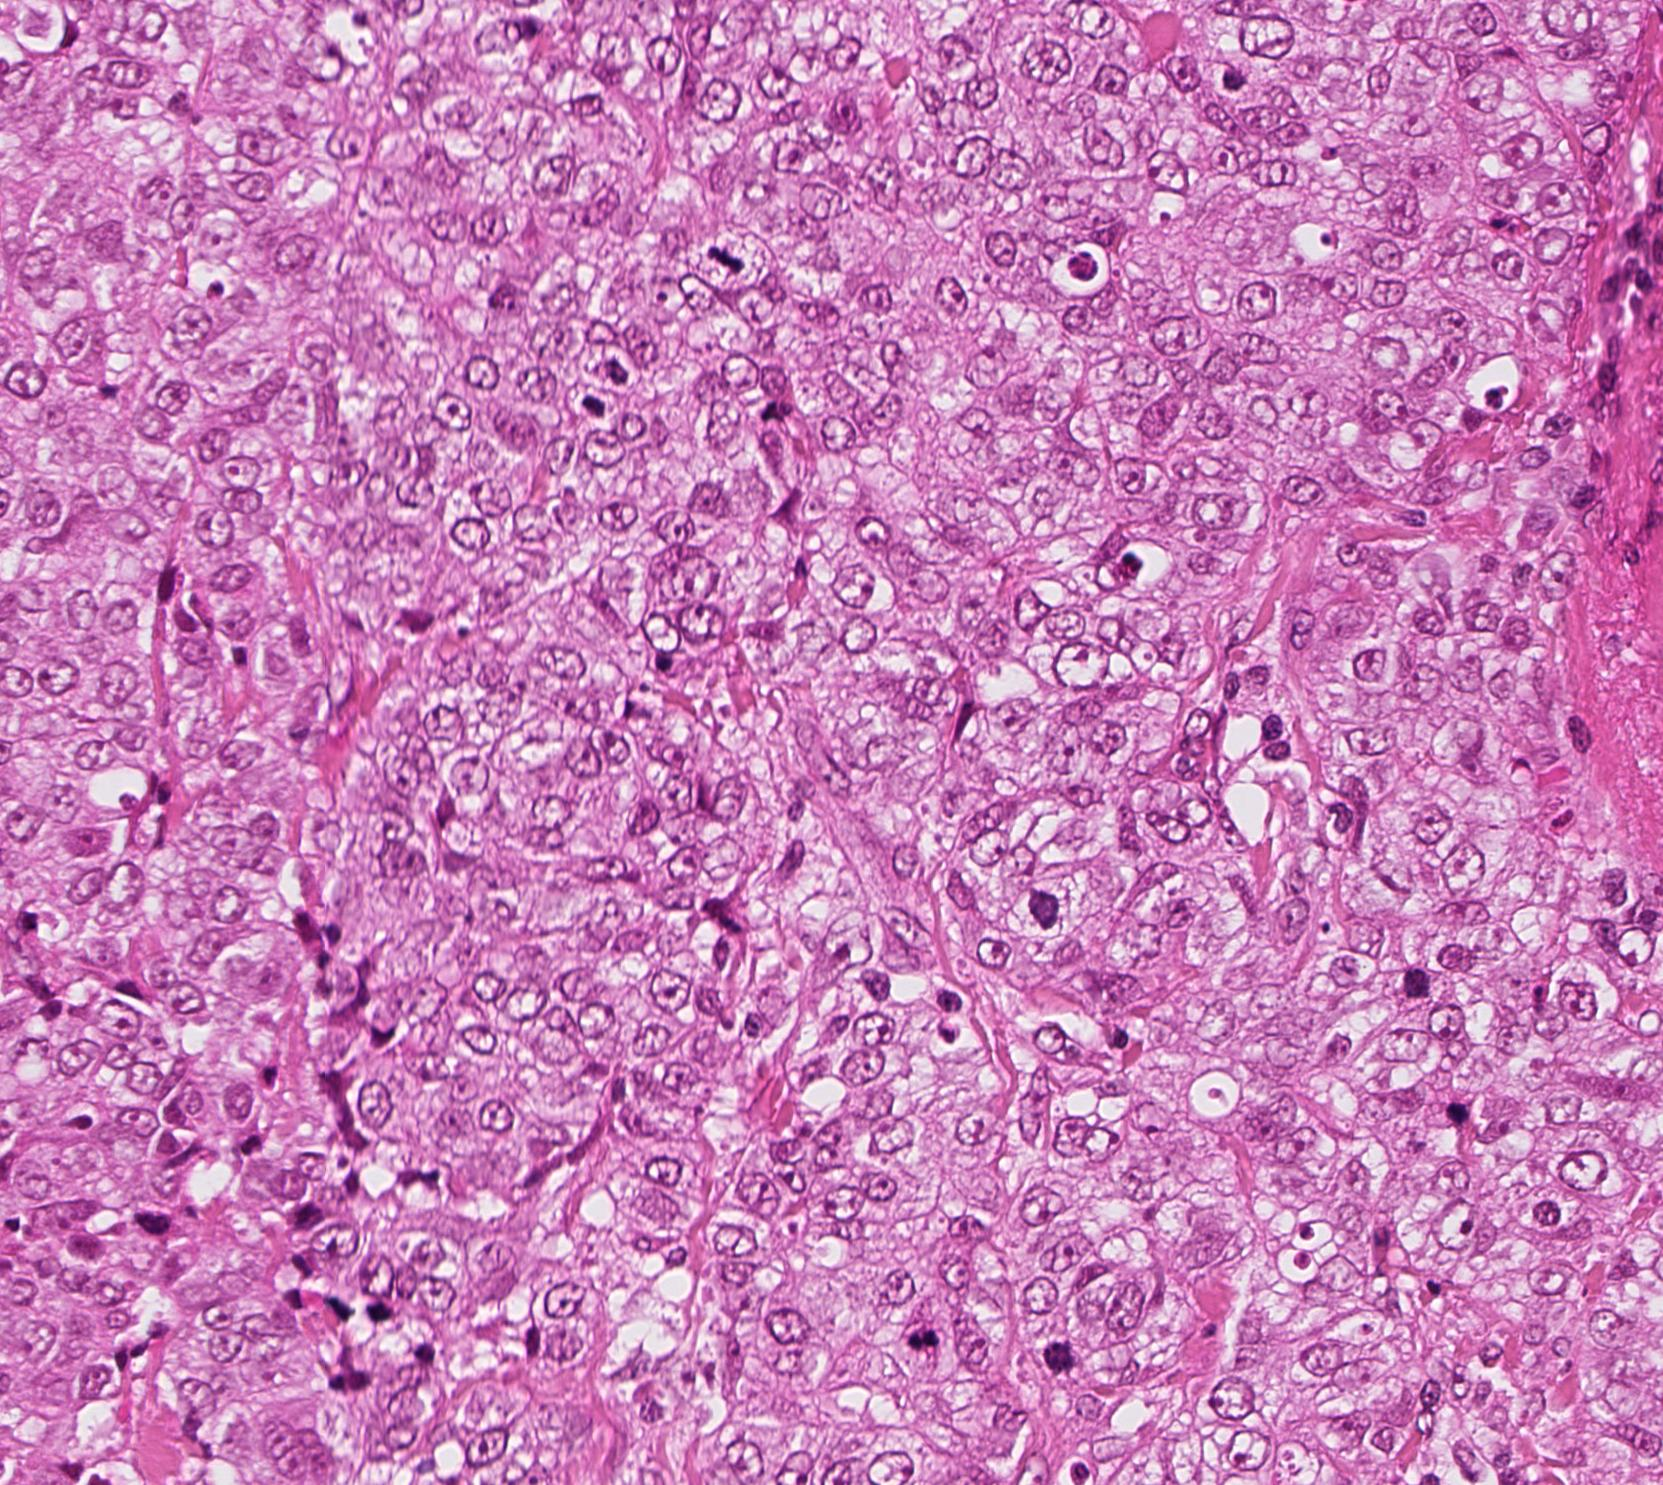mitosis: (698, 224, 758, 284), (576, 355, 637, 416), (1029, 1322, 1090, 1380)
